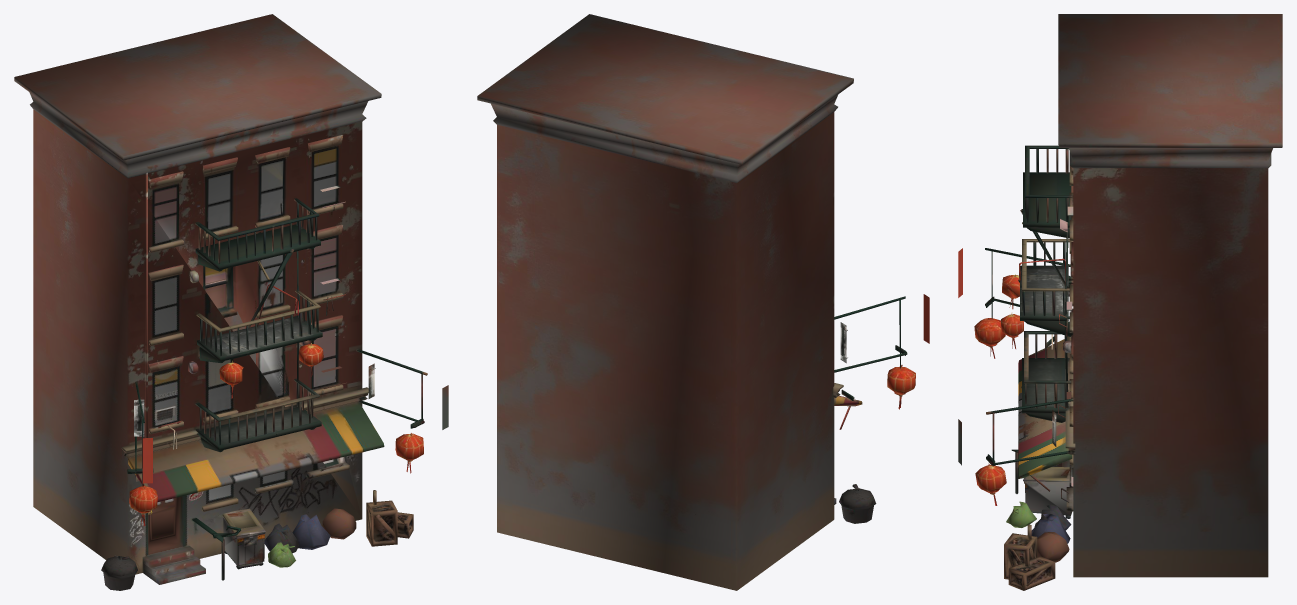
The picture shows the model from 3 angles, left to right: view 1: azimuth 30°, elevation 25°; view 2: azimuth 150°, elevation 25°; view 3: azimuth 270°, elevation 25°; orthographic projection. The views are drawn at different scales.
Visible parts, largest first — view 1: tripo_node_e56ba08e-8cf6-4942-bff3-9113e8200815; view 2: tripo_node_e56ba08e-8cf6-4942-bff3-9113e8200815; view 3: tripo_node_e56ba08e-8cf6-4942-bff3-9113e8200815.
Boxes of the visible parts, box(x1,y1,x2,y2) form: tripo_node_e56ba08e-8cf6-4942-bff3-9113e8200815: box(14, 14, 448, 590); tripo_node_e56ba08e-8cf6-4942-bff3-9113e8200815: box(477, 14, 929, 590); tripo_node_e56ba08e-8cf6-4942-bff3-9113e8200815: box(958, 14, 1282, 590).
Bounding box in the file's own units: 0.7441 × 0.998 × 0.666.
1 material, 1 textured.
